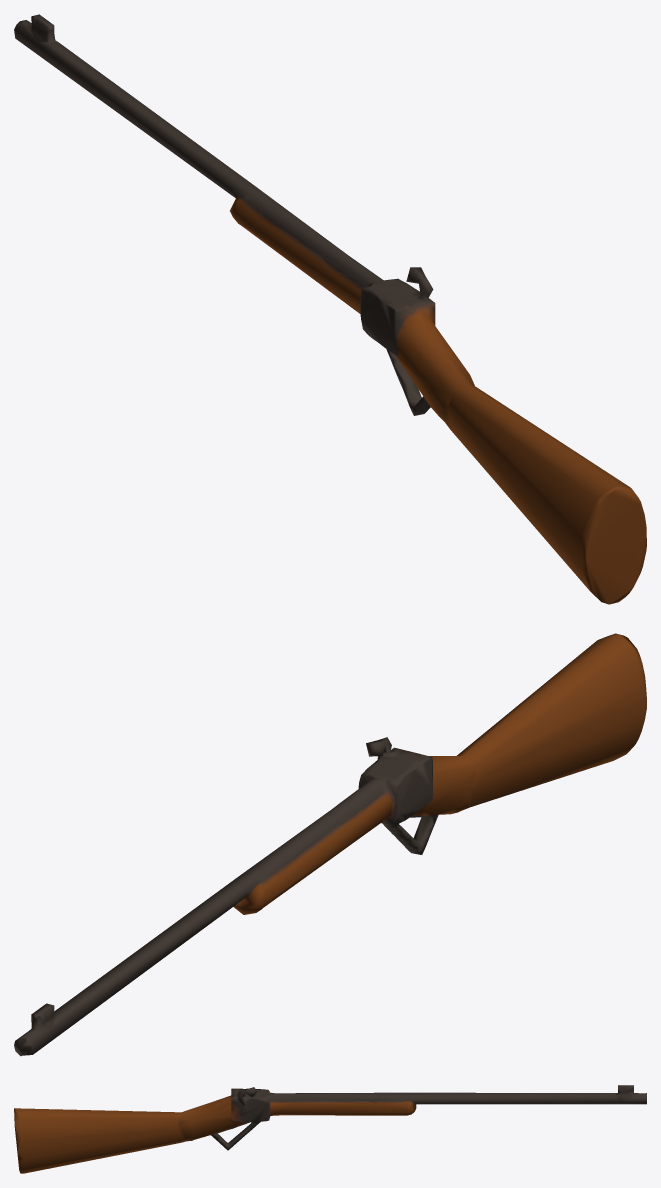
The model's file is rifle.fbx.
3 renders of one model, top to bottom at view 1: azimuth 30°, elevation 25°; view 2: azimuth 150°, elevation 25°; view 3: azimuth 270°, elevation 25°, orthographic. The views are drawn at different scales.
Parts seen in each view (by area): view 1: Mesh; view 2: Mesh; view 3: Mesh.
Part boxes in pixels (x1=…): Mesh: x1=14, y1=14, x2=646, y2=604; Mesh: x1=14, y1=633, x2=646, y2=1056; Mesh: x1=14, y1=1085, x2=646, y2=1173.
Size of the model in its own units: 8.57 by 142 by 22.29.
Materials: 1 (1 with a texture image).
